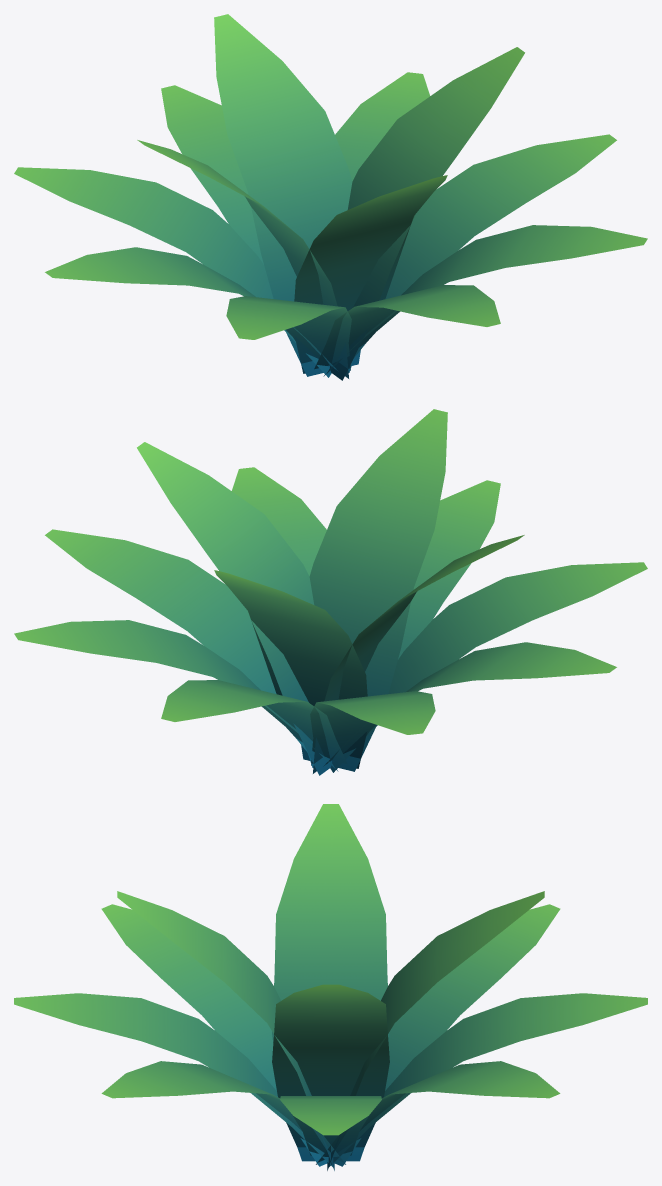
Rendered from Dino_GroundWeed.fbx.
3 views of the same model, one above another, from view 1: azimuth 30°, elevation 25°; view 2: azimuth 150°, elevation 25°; view 3: azimuth 270°, elevation 25° (orthographic). The views are drawn at different scales.
Parts seen in each view (by area): view 1: leaf69, leaf68, leaf72, leaf75, leaf66, leaf71, leaf74, leaf76, leaf67, leaf77, leaf73, leaf70; view 2: leaf66, leaf68, leaf72, leaf77, leaf69, leaf73, leaf67, leaf76, leaf74, leaf75, leaf71, leaf70; view 3: leaf70, leaf68, leaf67, leaf74, leaf75, leaf77, leaf66, leaf69, leaf71, leaf73, leaf72.
Boxes of the visible parts, x1,y1,x2,y2 form: leaf69: (214,14,360,376); leaf68: (330,47,524,380); leaf72: (354,134,616,357); leaf75: (14,167,331,377); leaf66: (294,175,447,373); leaf71: (323,225,647,376); leaf74: (161,85,263,264); leaf76: (45,247,338,371); leaf67: (314,285,500,369); leaf77: (226,296,351,370); leaf73: (335,72,429,372); leaf70: (137,140,348,378); leaf66: (301,409,447,771); leaf68: (137,442,331,775); leaf72: (45,529,307,752); leaf77: (330,562,647,772); leaf69: (214,570,367,768); leaf73: (14,620,338,771); leaf67: (398,480,500,659); leaf76: (323,642,616,766); leaf74: (161,680,347,764); leaf75: (310,691,435,765); leaf71: (232,467,326,767); leaf70: (313,535,524,773); leaf70: (272,804,389,1161); leaf68: (272,984,389,1147); leaf67: (14,993,332,1166); leaf74: (329,993,647,1166); leaf75: (334,904,560,1166); leaf77: (101,904,327,1166); leaf66: (117,891,334,1170); leaf69: (327,891,544,1170); leaf71: (101,1061,345,1164); leaf73: (316,1061,560,1164); leaf72: (280,1096,381,1155).
Bounding box in the file's own units: 2 × 0.924 × 2.
